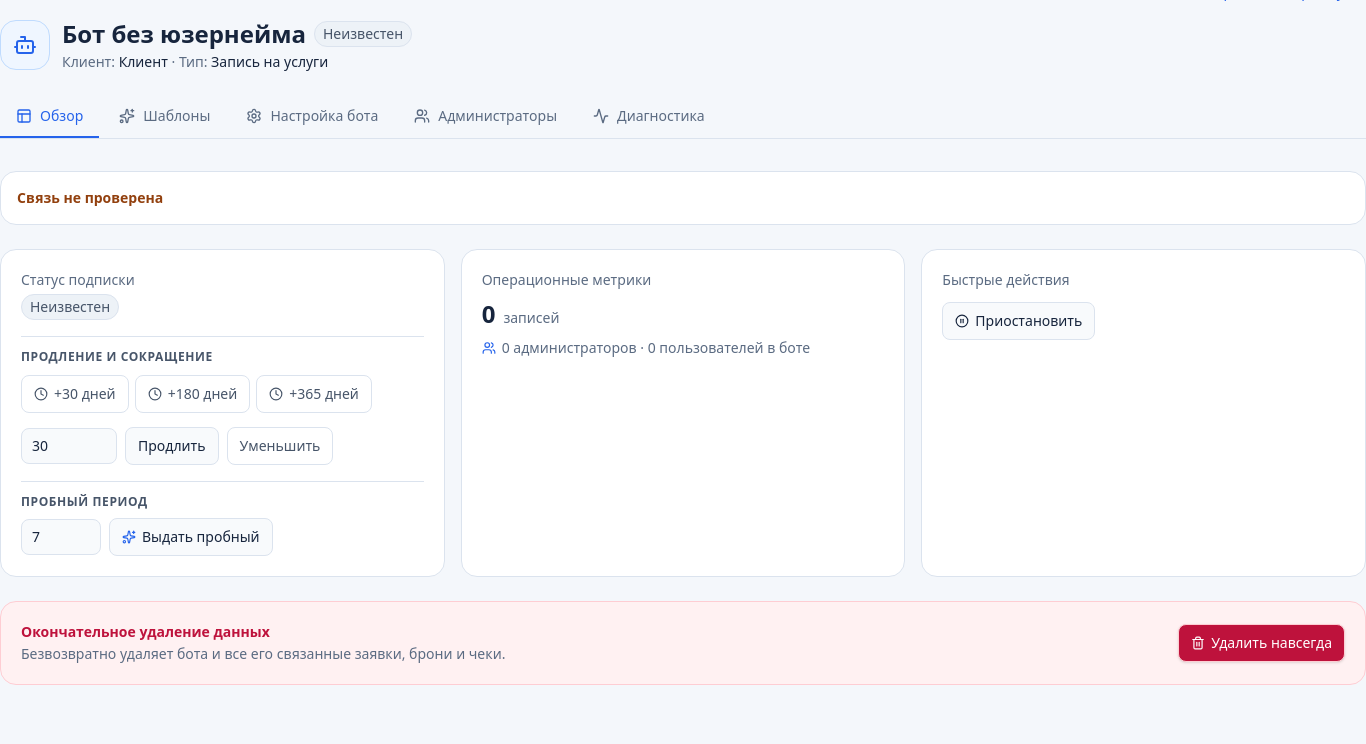
Test: Защита настройки бота › после явного применения шаблона заменяет прежний черновик
Expected: the text "Связь не проверена" is shown, [17,188,163,207]
Click the button "Настройка бота" at (312, 117), box [230,96,394,138]
(page scrolled)
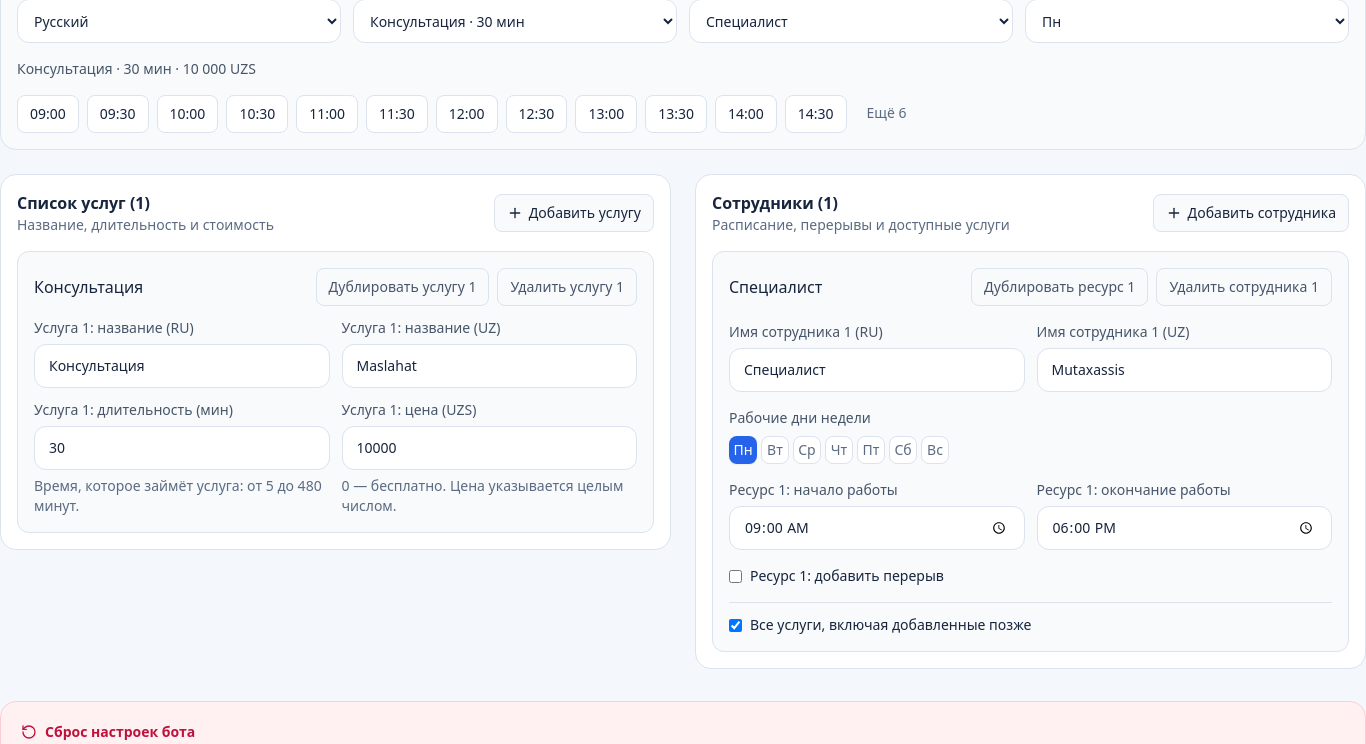
Replace the text in the field showing "Консультация" with "Мой черновик" at (182, 366), box [34,344,330,388]
(page scrolled)
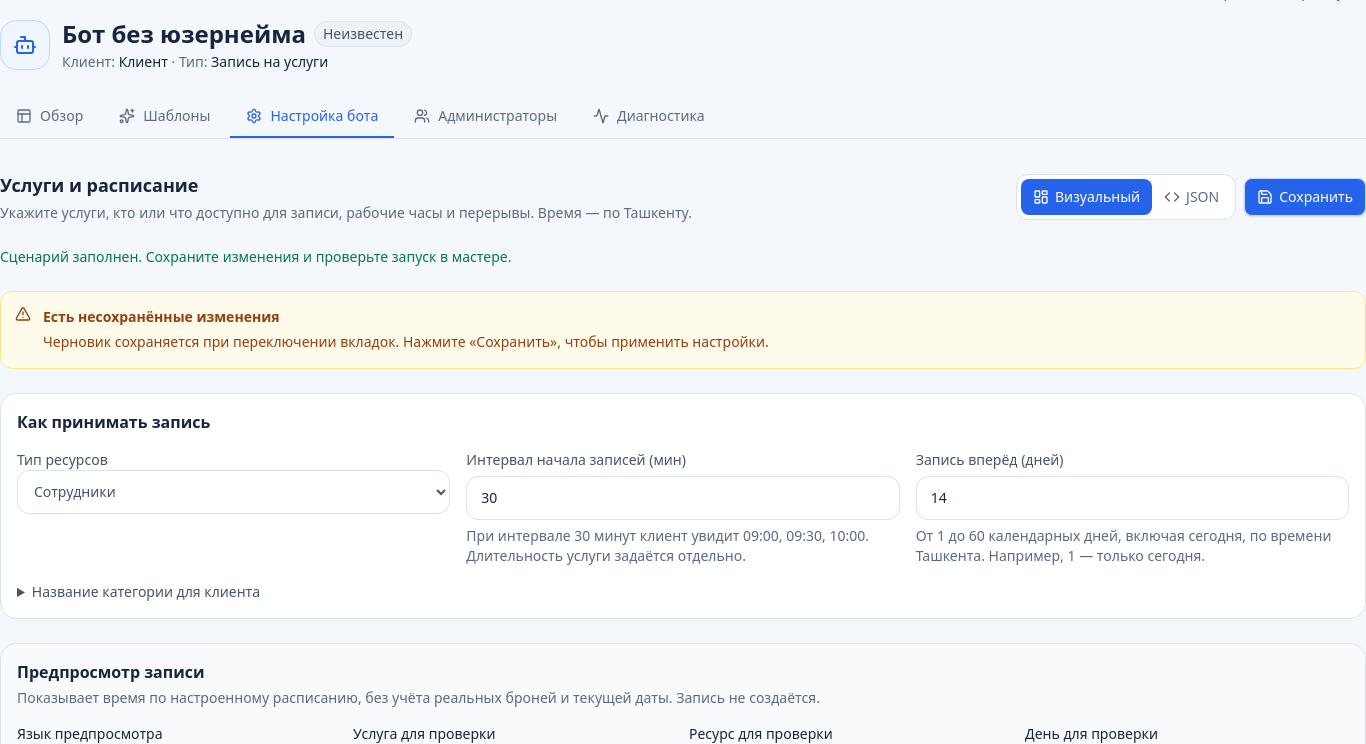
Click the button "Шаблоны" at (165, 117), box [103,96,226,138]
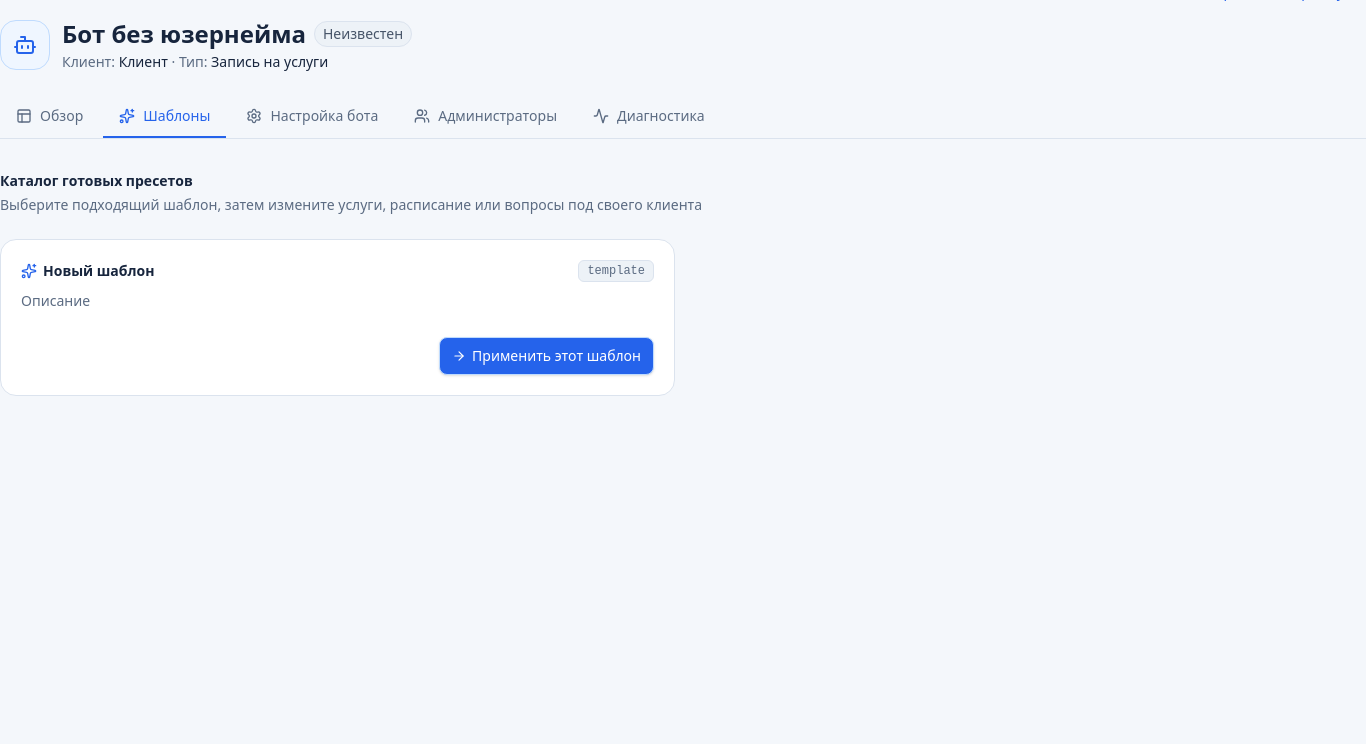
Expected: the text "Новый шаблон" is shown, [21,261,154,281]
Click the button "Применить этот шаблон" at (546, 356), box [439,337,654,375]
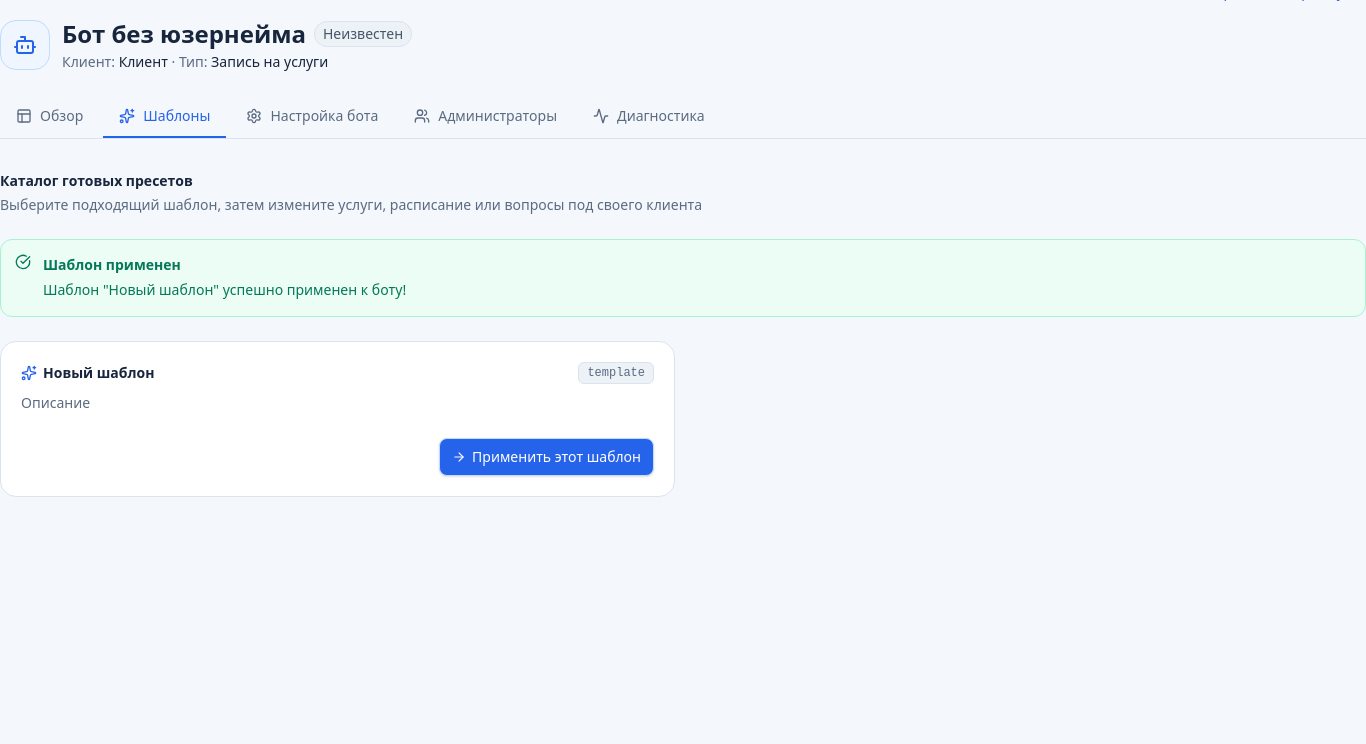
Expected: the text "Шаблон \"Новый шаблон\" успешно применен к боту!" is shown, [43,279,406,302]
Click the button "Настройка бота" at (312, 117), box [230,96,394,138]
(page scrolled)
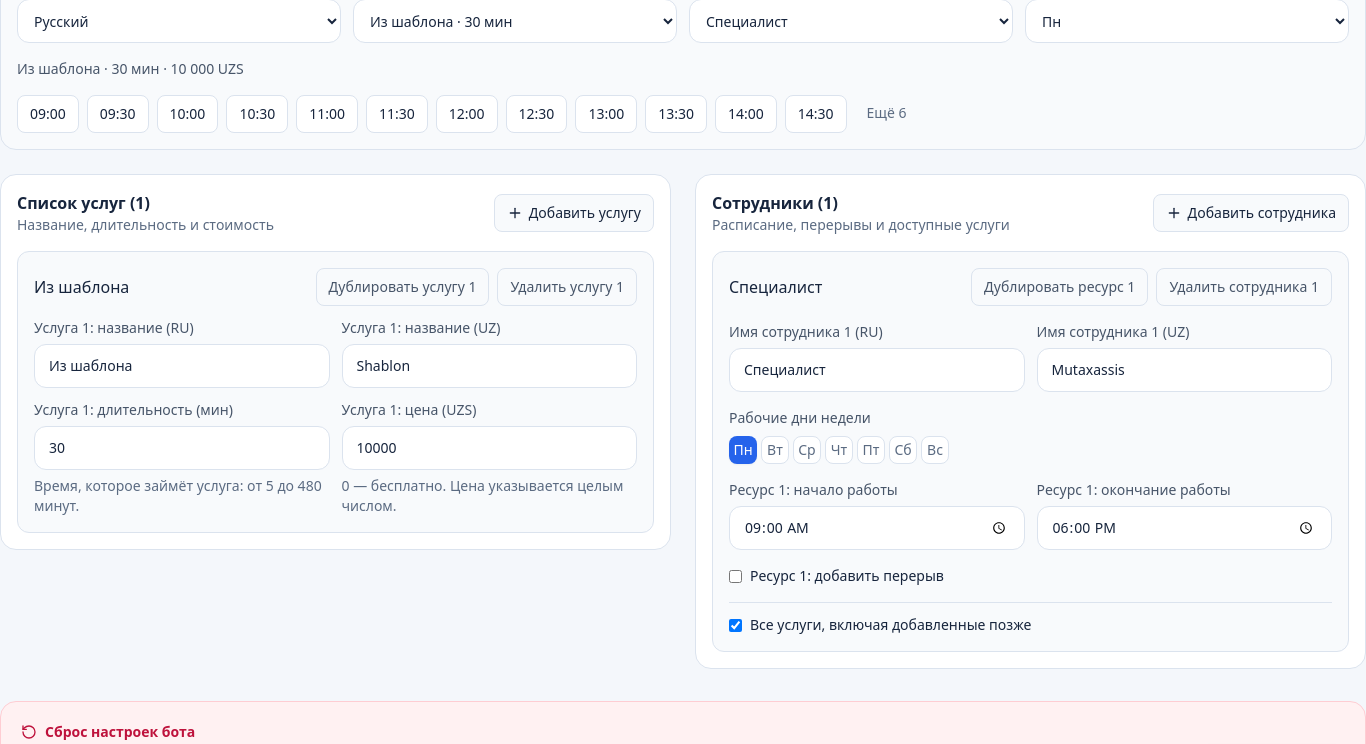
Expected: the field showing "Мой черновик" is not shown
Expected: the field showing "Из шаблона" is shown, [34,344,330,388]
